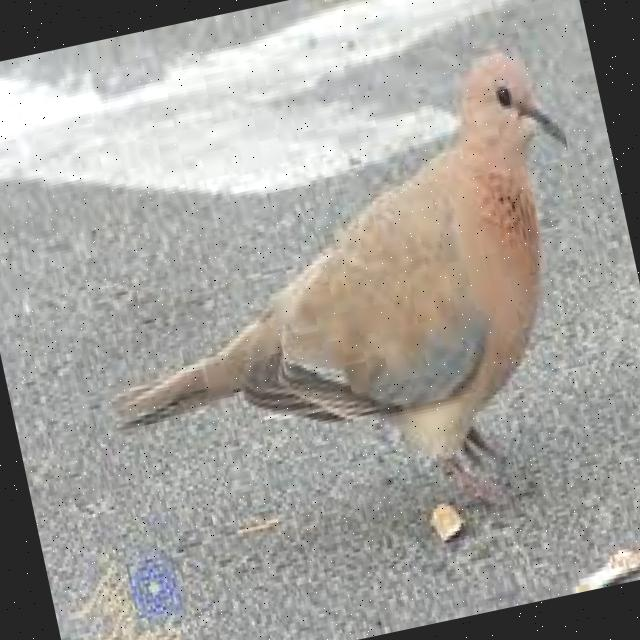dove: (37, 32, 640, 585)
